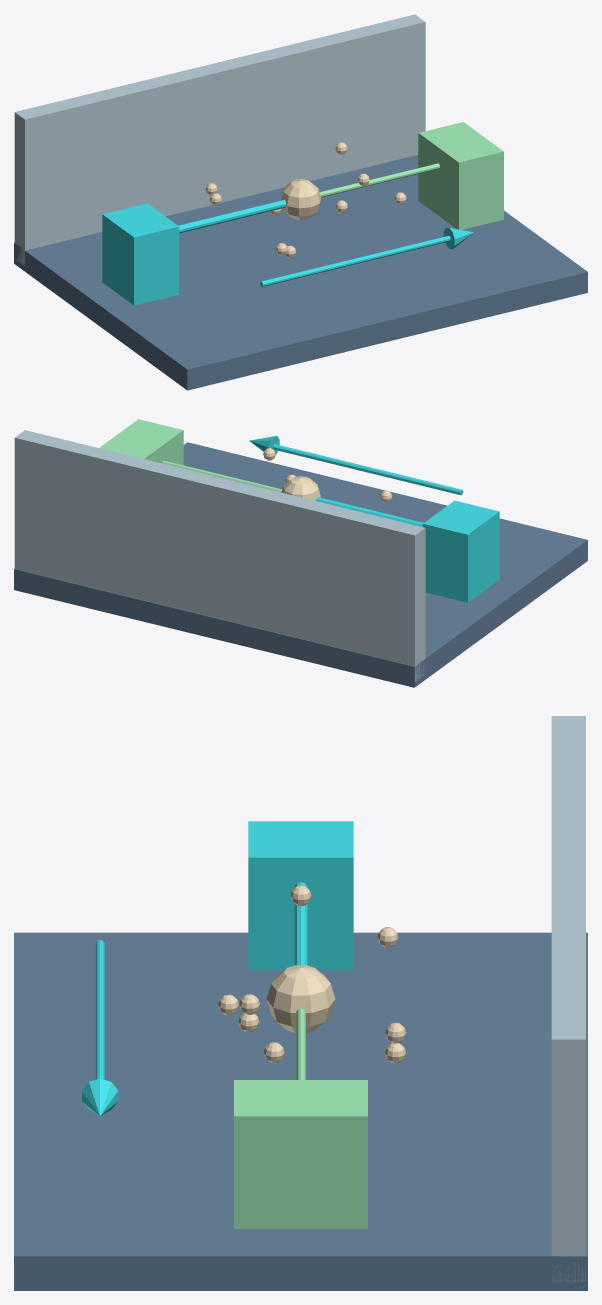
Rendered from optical_detector.glb.
3 views of the same model, one above another, from view 1: azimuth 30°, elevation 25°; view 2: azimuth 150°, elevation 25°; view 3: azimuth 270°, elevation 25° (orthographic). The views are drawn at different scales.
Visible parts, largest first — view 1: Detector base, Rear housing, Forward receiver, Emitter, Illustrative aerosol, Ventilation guide — conceptual.003, Incident light — schematic, Forward scattered light — schematic; view 2: Rear housing, Detector base, Emitter, Forward receiver, Ventilation guide — conceptual.003, Illustrative aerosol, Incident light — schematic, Forward scattered light — schematic; view 3: Detector base, Forward receiver, Rear housing, Emitter, Illustrative aerosol, Ventilation guide — conceptual.003, Cone.003, Incident light — schematic.
Part boxes in pixels (x1,y1,x2,y2): Detector base: (14,155,587,390); Rear housing: (14,14,425,265); Forward receiver: (418,122,503,229); Emitter: (102,203,179,305); Illustrative aerosol: (281,179,321,220); Ventilation guide — conceptual.003: (260,235,450,286); Incident light — schematic: (178,200,285,233); Forward scattered light — schematic: (319,163,439,197); Rear housing: (14,430,425,681); Detector base: (14,442,587,687); Emitter: (422,500,499,602); Forward receiver: (99,419,183,465); Ventilation guide — conceptual.003: (272,444,463,495); Illustrative aerosol: (281,476,320,500); Incident light — schematic: (316,497,423,526); Forward scattered light — schematic: (162,460,282,492); Detector base: (14,932,587,1290); Forward receiver: (234,1080,367,1228); Rear housing: (551,716,585,1282); Emitter: (248,821,353,970); Illustrative aerosol: (266,965,335,1032); Ventilation guide — conceptual.003: (95,940,104,1079); Cone.003: (82,1078,118,1115); Incident light — schematic: (294,882,307,965).
Size of the model in its own units: 4 by 1.45 by 3.
